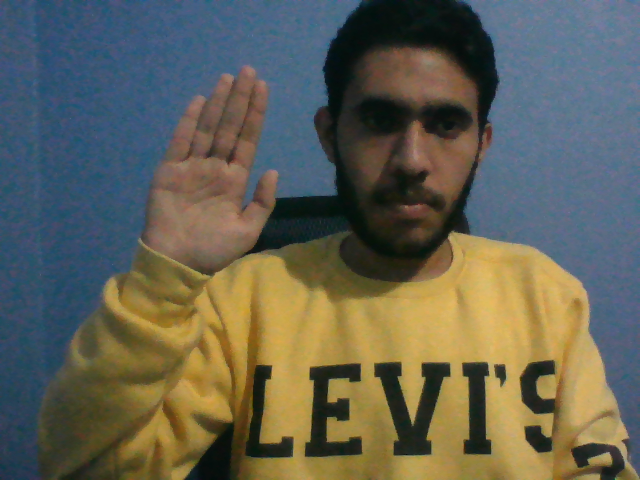hello: (130, 62, 283, 276)
